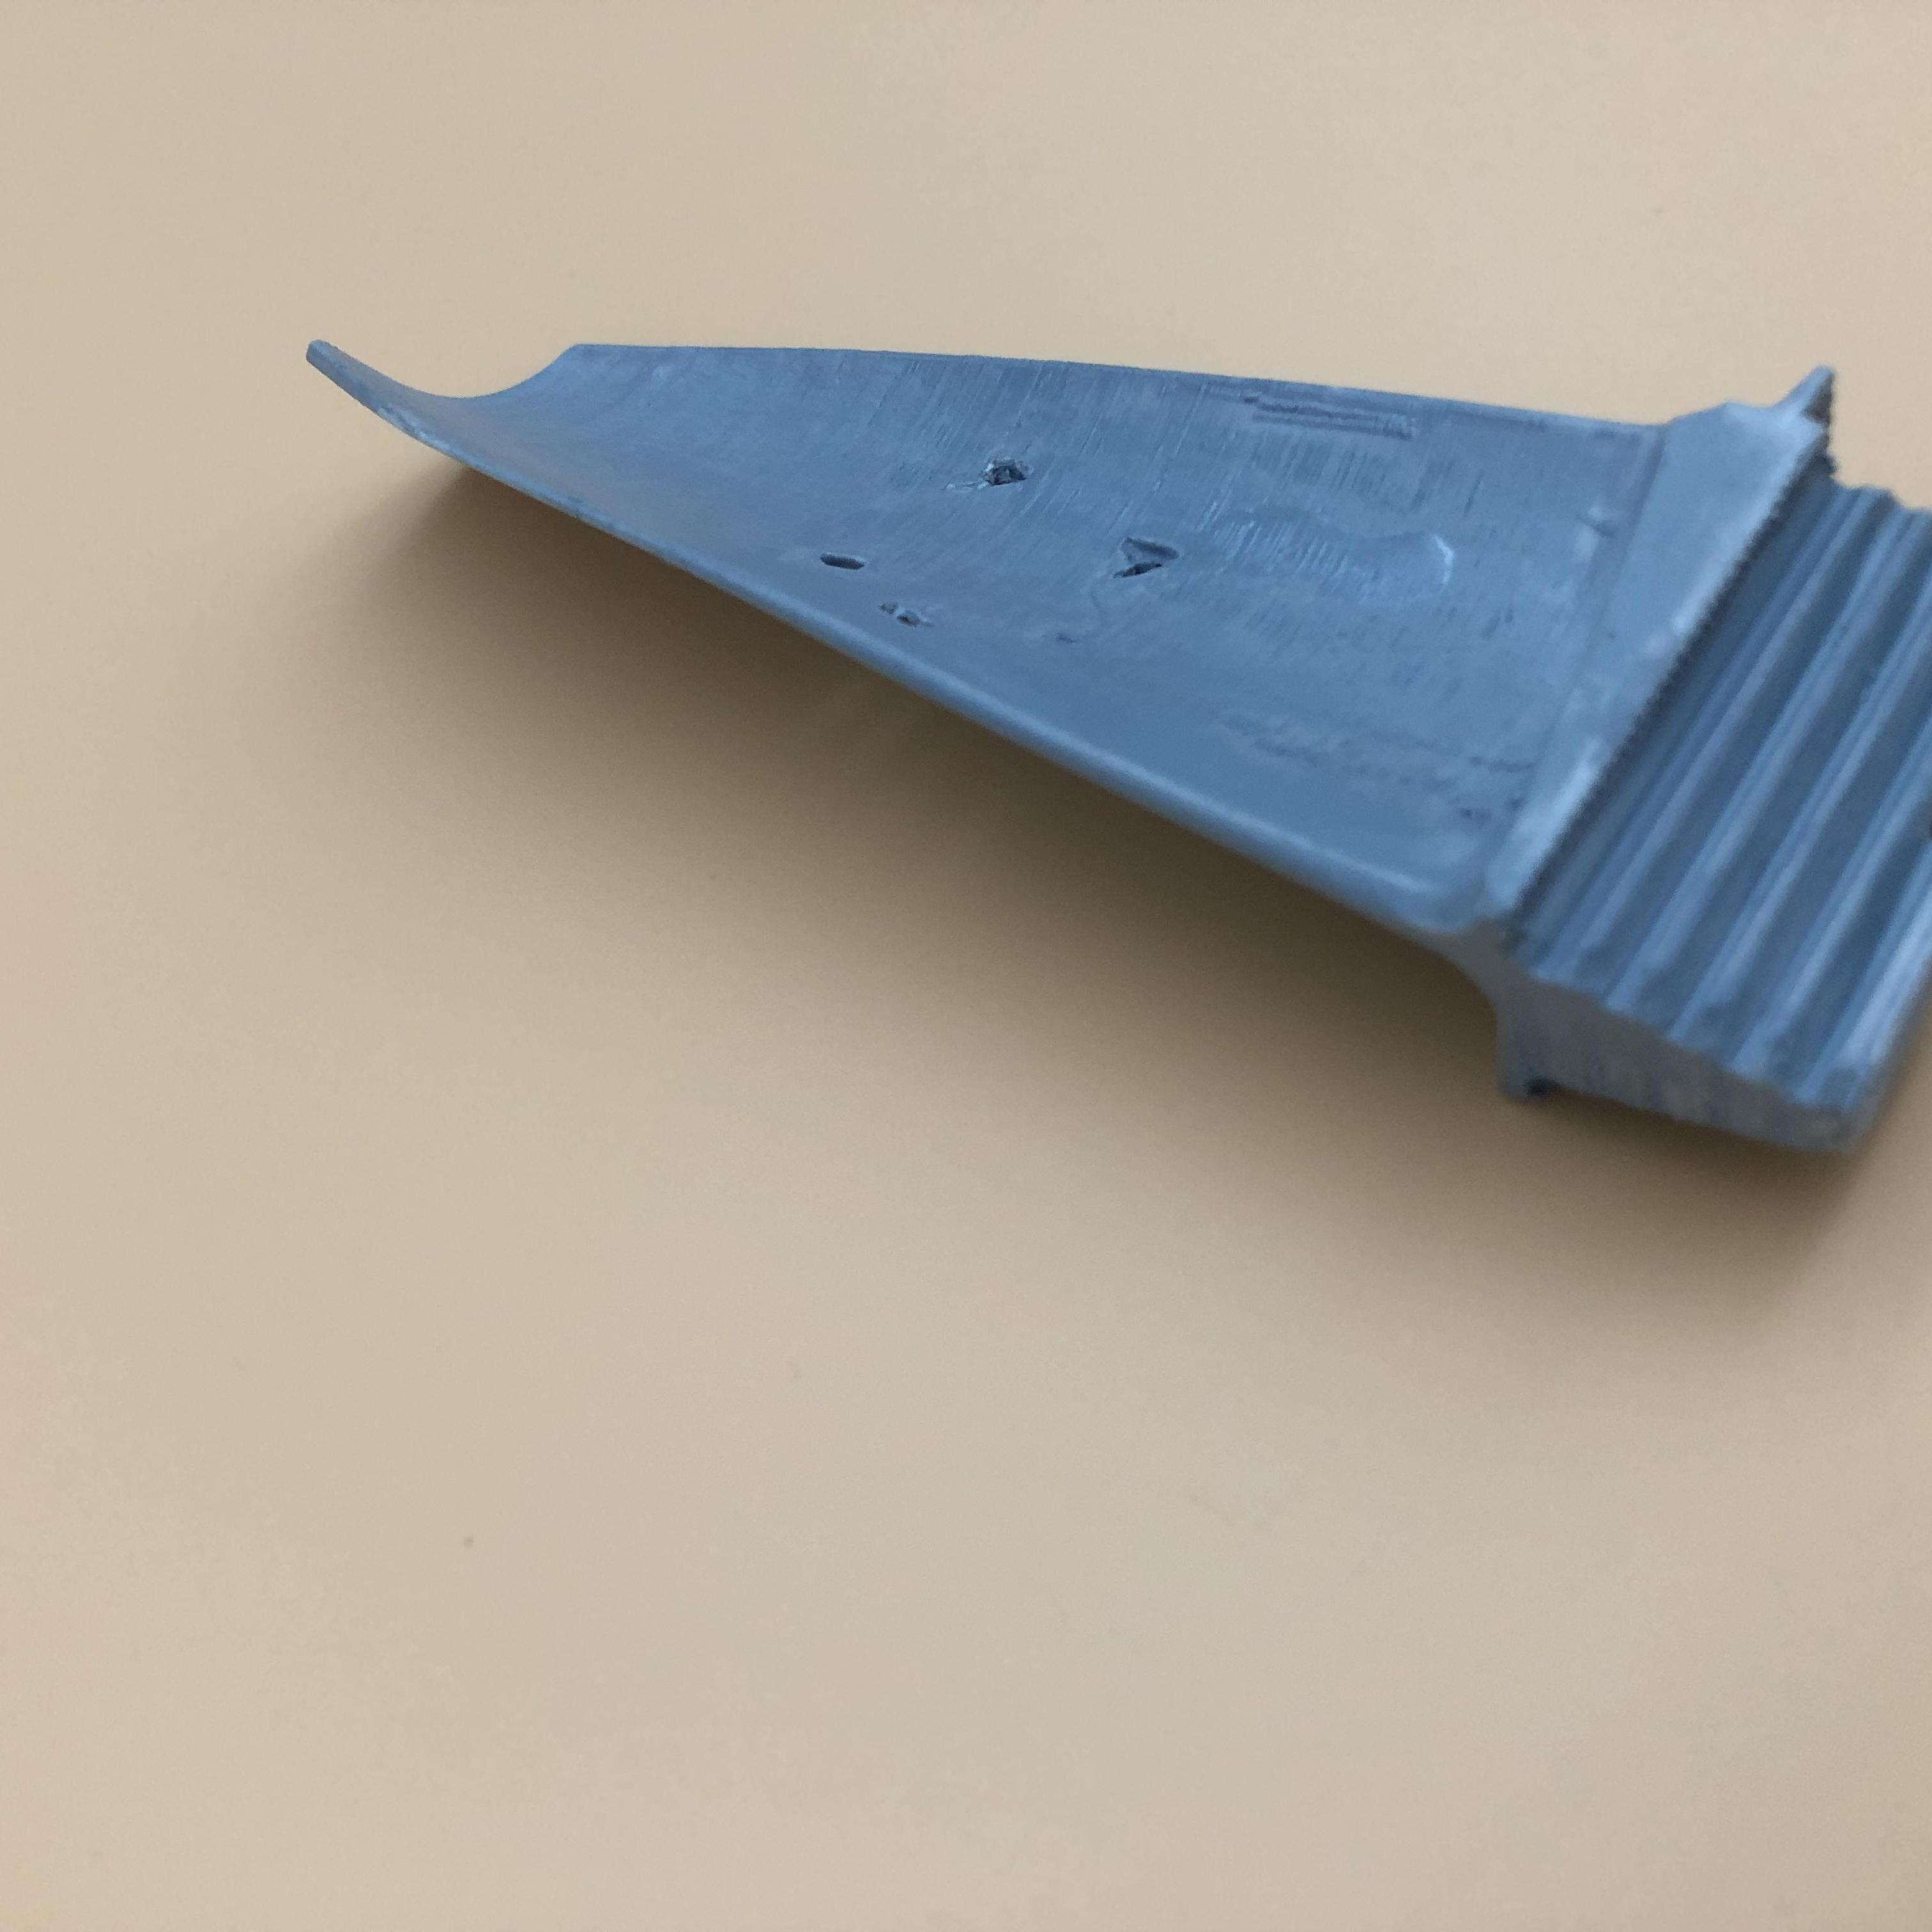breakdown: (833, 462, 1196, 633)
